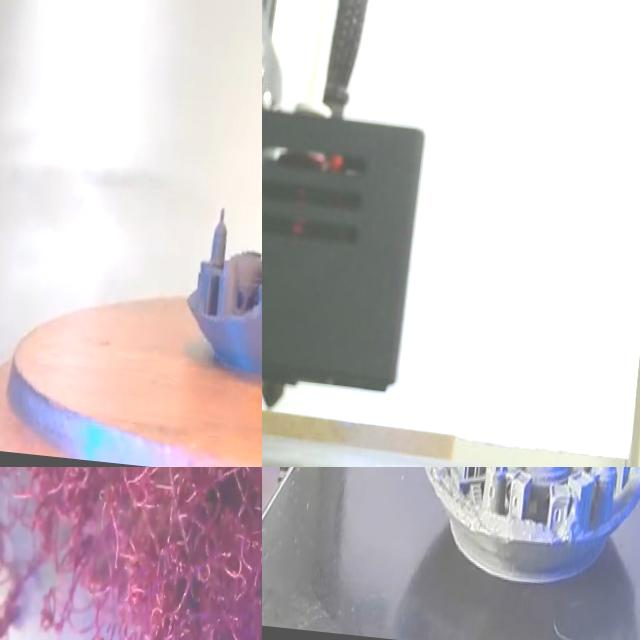spaghetti: (3, 467, 262, 640), (0, 491, 23, 640)
